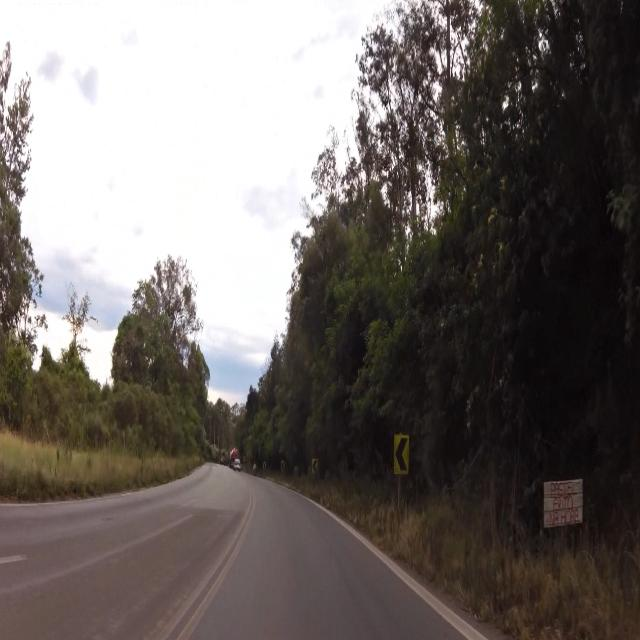Del: (394, 434, 409, 479)
